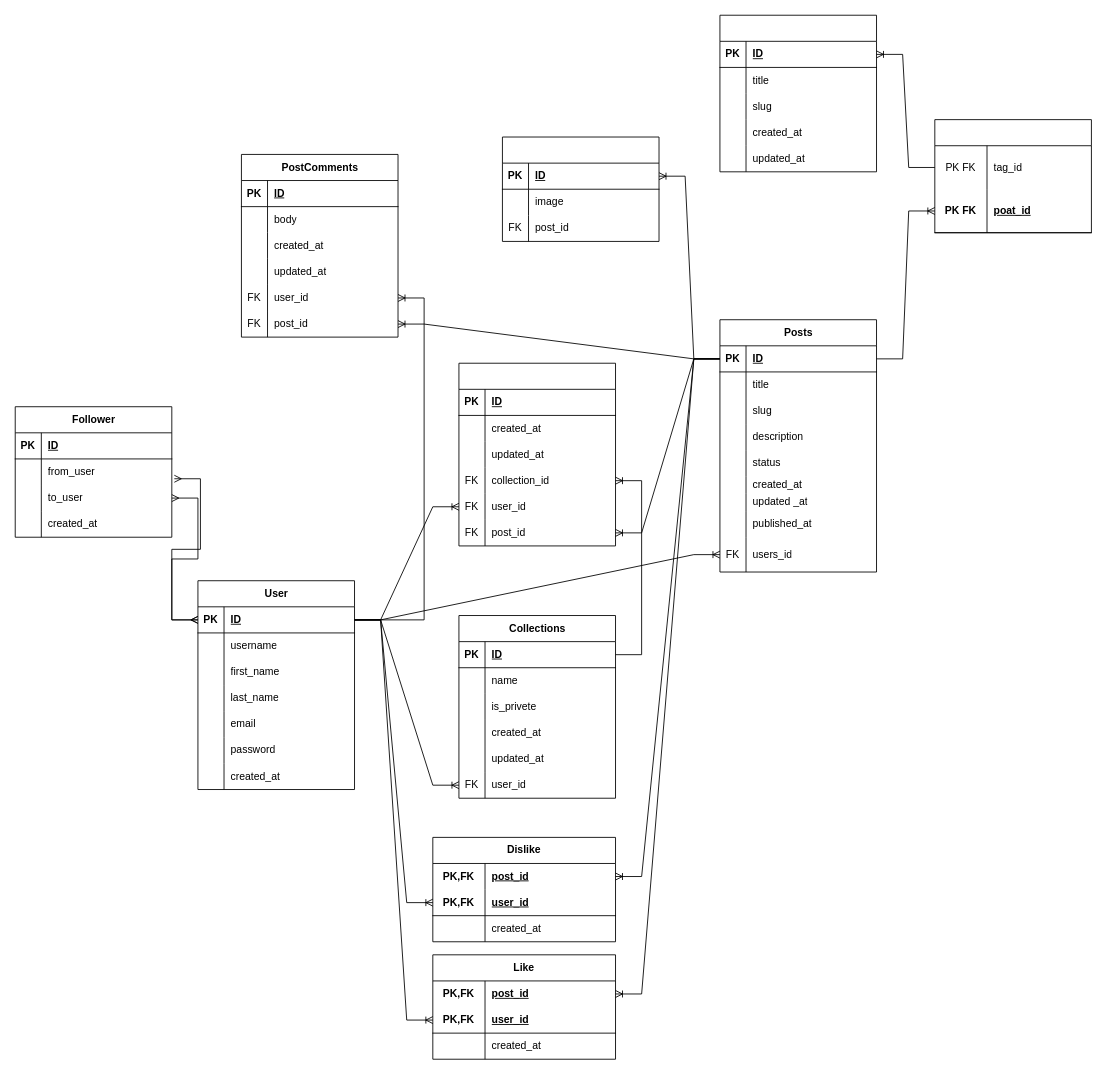
Image size: 1107x1074. Some labels were removed from this diagram. Each missing label, with the box of its shape:
collection_items: (458, 362, 616, 546)
Post_images: (502, 136, 659, 241)
Post_Tags: (934, 119, 1091, 233)
Tag: (719, 14, 877, 172)
